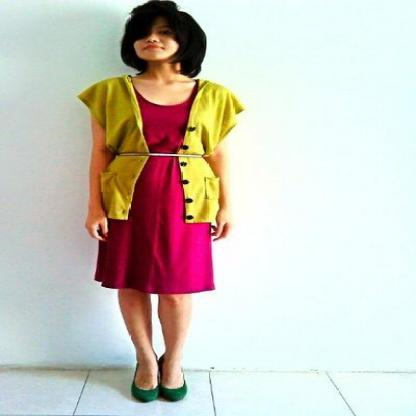dress: (95, 90, 214, 294)
jacket: (78, 75, 243, 226)
shoe: (131, 374, 186, 402)
